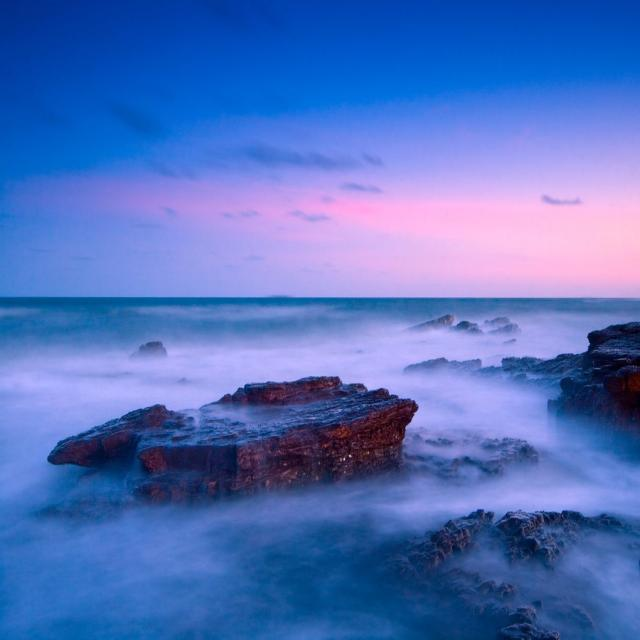reef: (49, 373, 431, 538)
